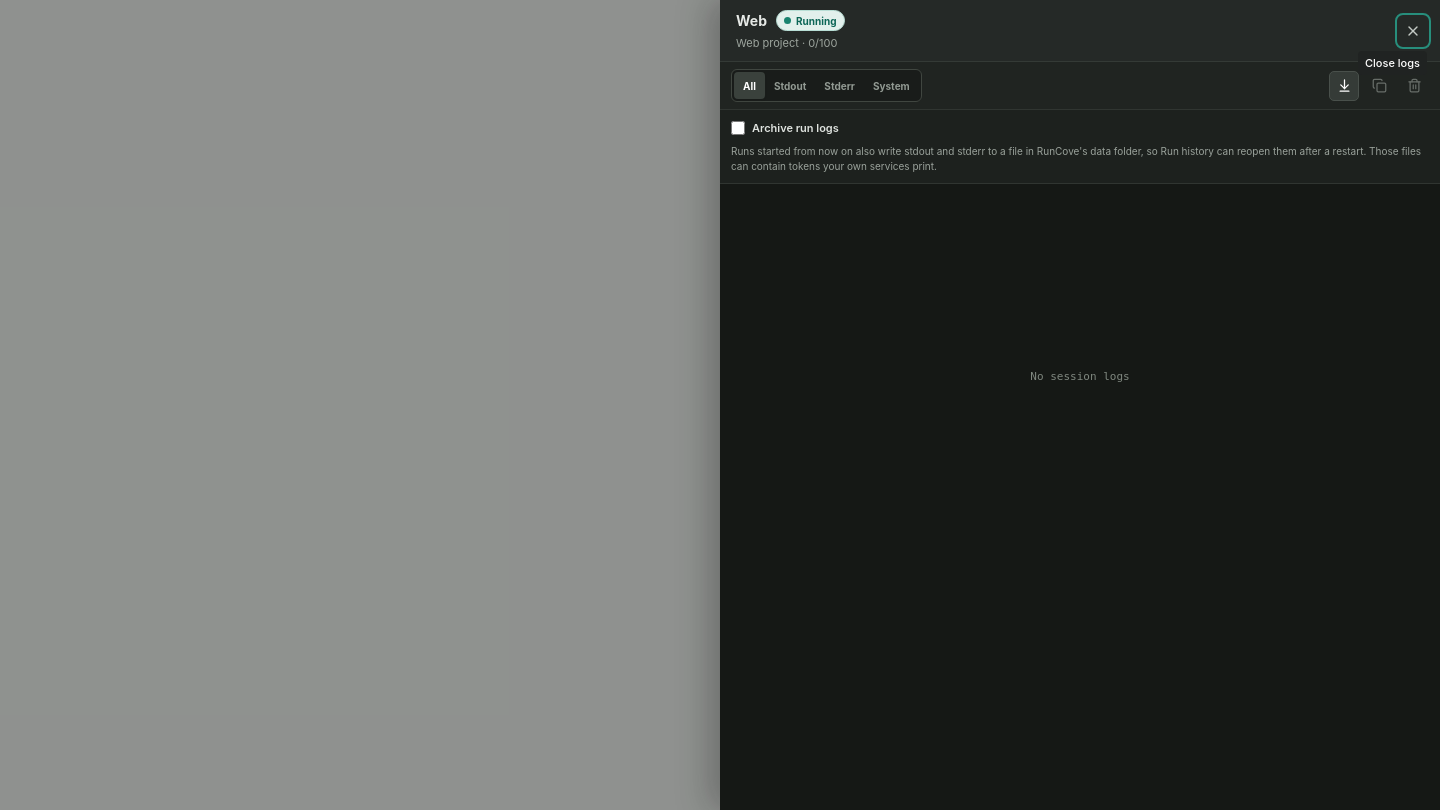
Test: LogDrawer run log archiving › reports a failed toggle without borrowing the log retry
The image size is (1440, 810).
Click the checkbox labelled "Archive run logs": (738, 128) top-left (731, 121), bottom-right (745, 135)
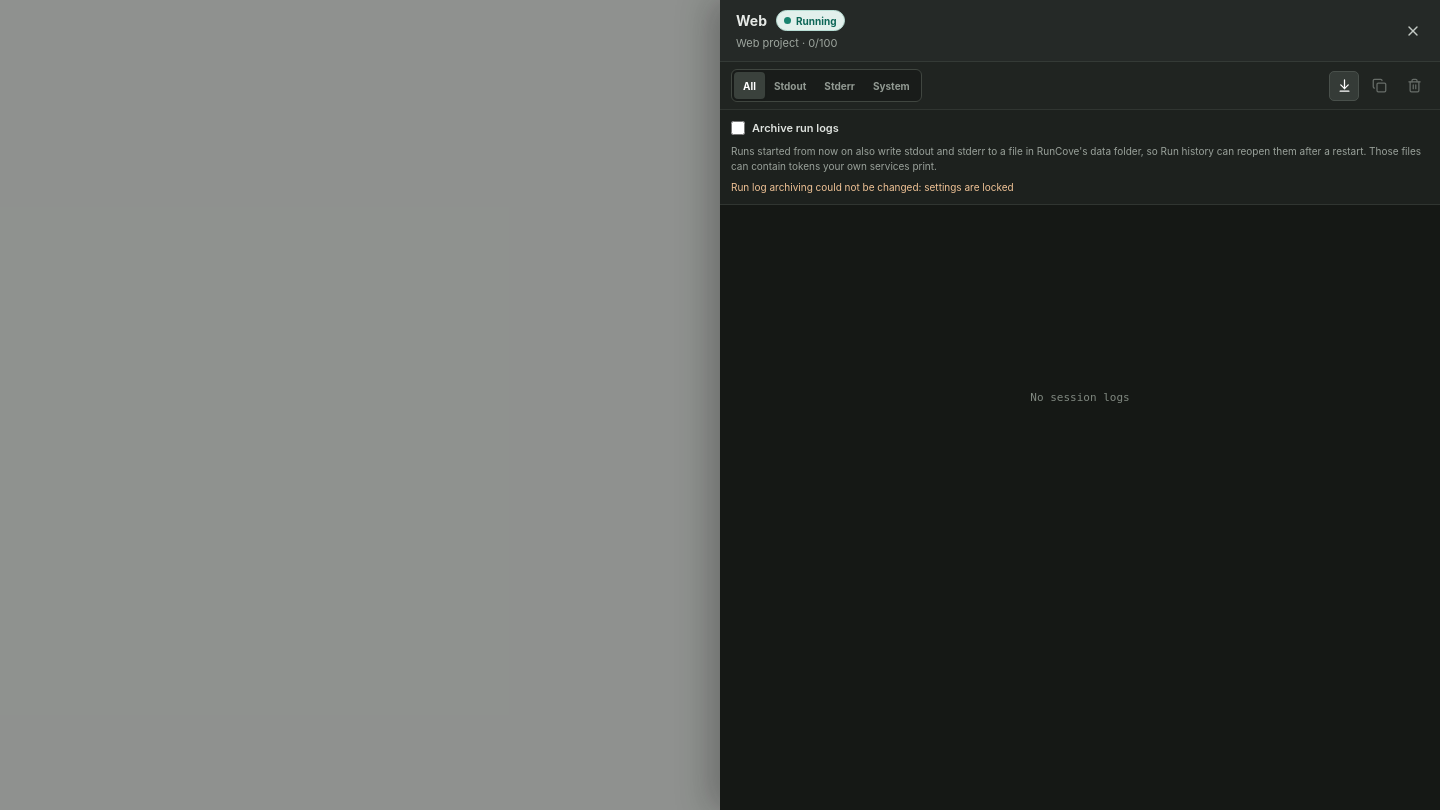
Now the message reads "Run log archiving could not be changed: settings are locked", box top-left (731, 181), bottom-right (1014, 193)
